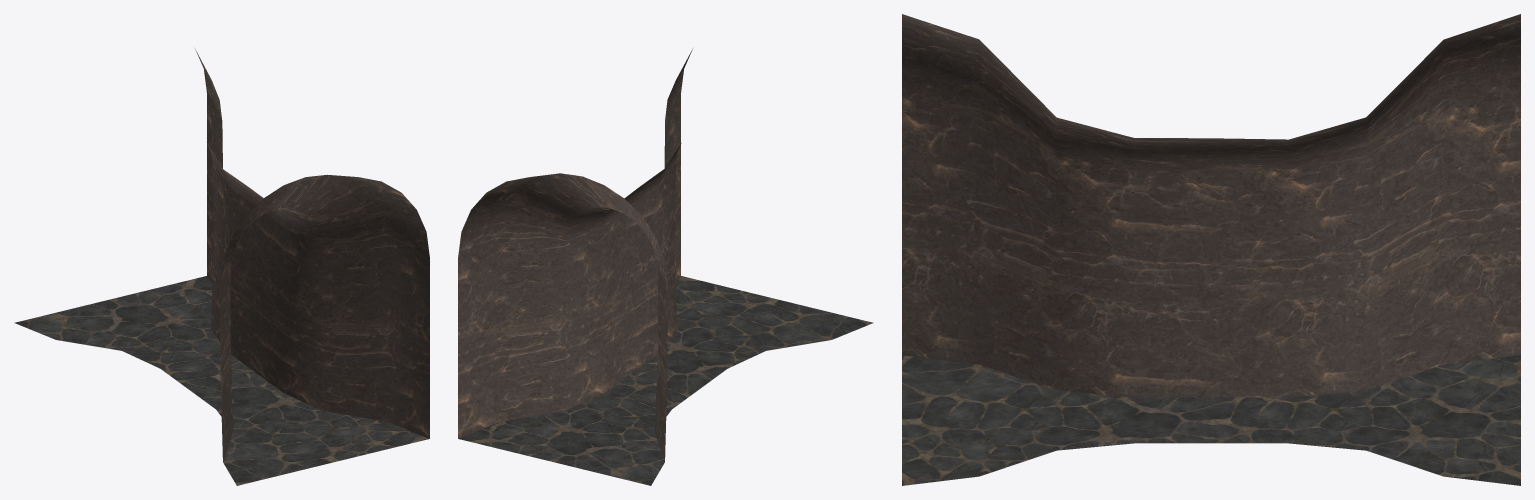
The model's file is hall-squeeze.gltf.
The picture shows the model from 3 angles, left to right: view 1: azimuth 30°, elevation 25°; view 2: azimuth 150°, elevation 25°; view 3: azimuth 270°, elevation 25°; orthographic projection. The views are drawn at different scales.
Parts seen in each view (by area): view 1: hall-squeeze-mesh; view 2: hall-squeeze-mesh; view 3: hall-squeeze-mesh.
Part boxes in pixels (bbox=[...]): hall-squeeze-mesh: bbox=[14, 49, 429, 485]; hall-squeeze-mesh: bbox=[458, 49, 873, 485]; hall-squeeze-mesh: bbox=[902, 14, 1520, 485].
Bounding box in the file's own units: 2 × 2.8 × 4.
Materials: 2 (2 with a texture image).
